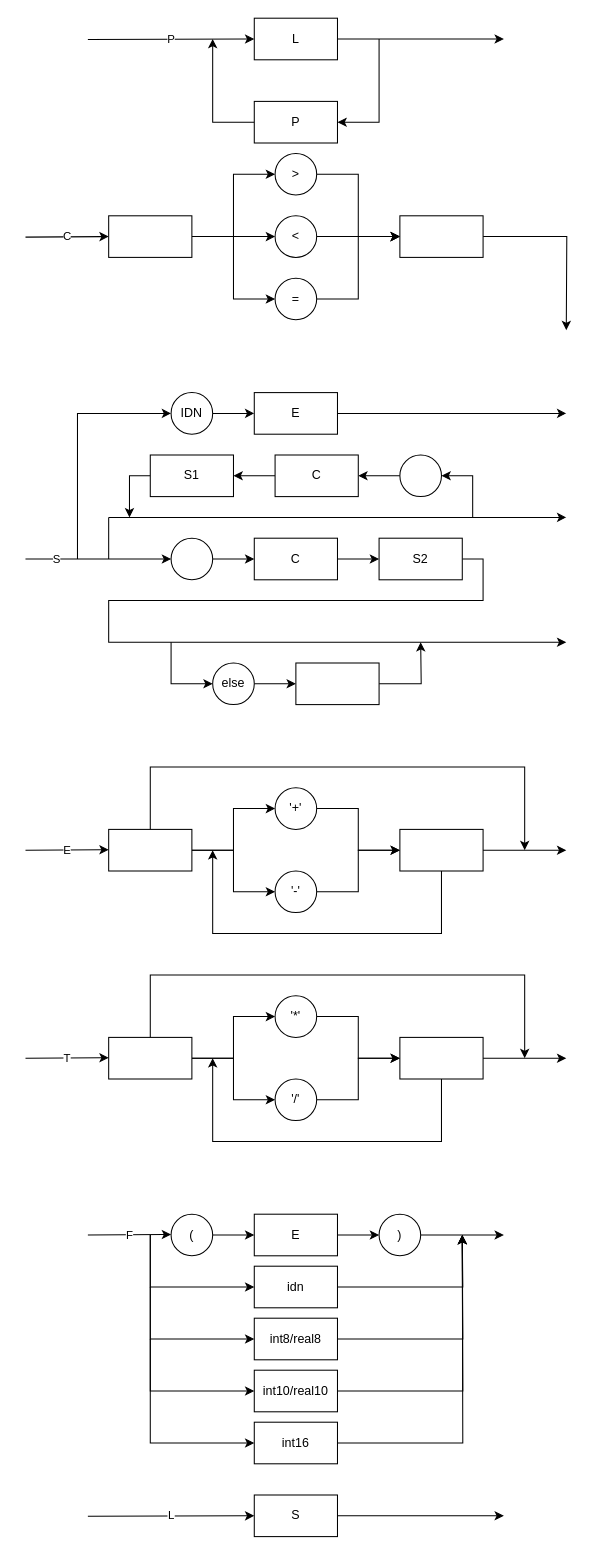
Image size: 594x1555. Some labels were removed from this diagram. The centre of each missing label's shape, as x and y in pixels:
"E1" belongs at (150,236).
"E2" belongs at (441,236).
"F1" belongs at (150,1057).
"F2" belongs at (441,1057).
"if" belongs at (191,558).
"S3" belongs at (337,683).
"T1" belongs at (150,849).
"T2" belongs at (441,849).
"while" belongs at (420,475).
